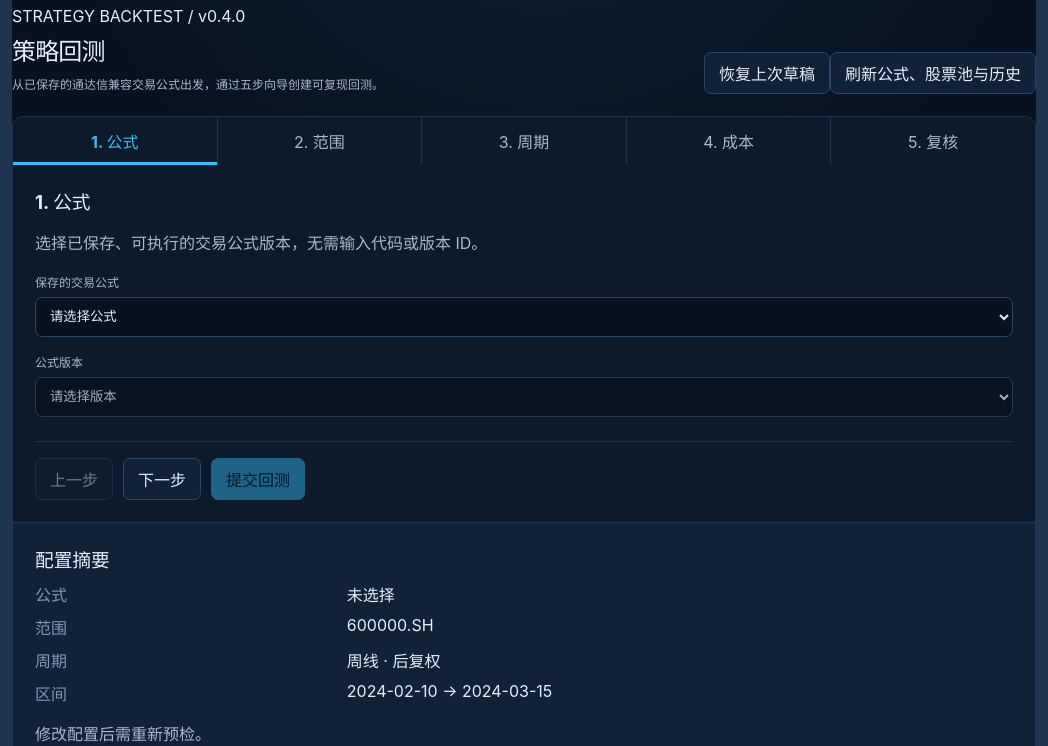
it: prefill wins until the user explicitly restores a stored draft
Check: the text "周线 · 后复权" is shown, box [347,651,440,671]
Click the button "恢复上次草稿": [767, 73] box [704,52,830,94]
(page scrolled)
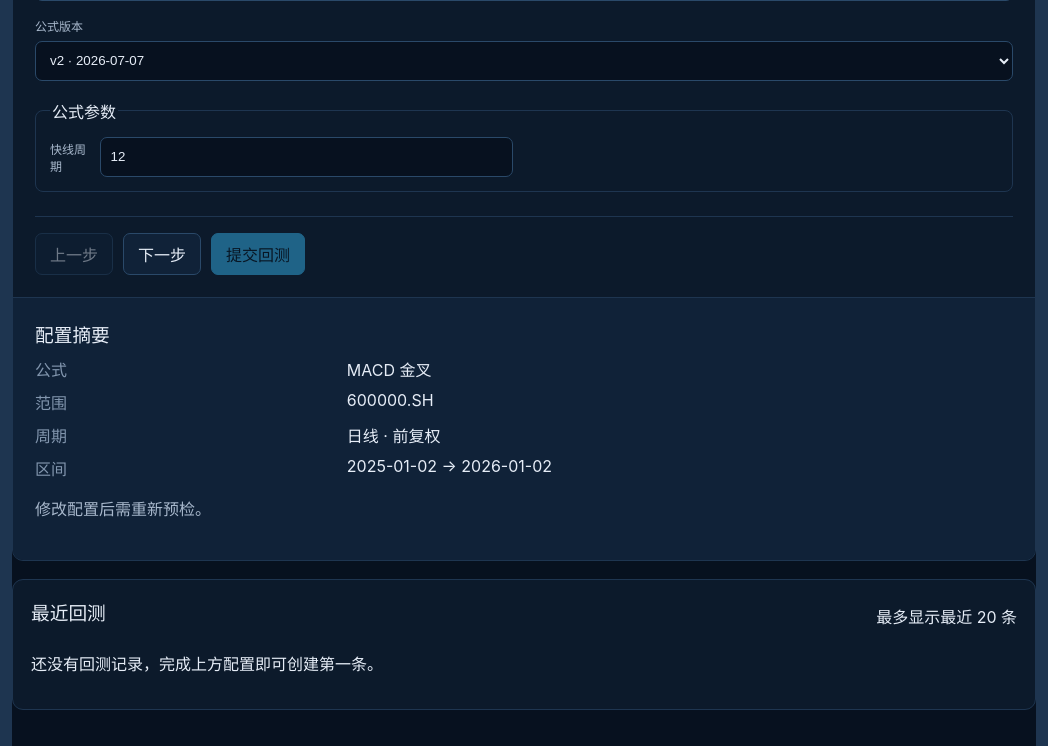
Check: the text "日线 · 前复权" is shown, box [347,426,440,446]
Check: the text "2025-01-02 → 2026-01-02" is shown, box [347,456,552,476]
